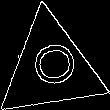O_W: (24, 43, 77, 93)
